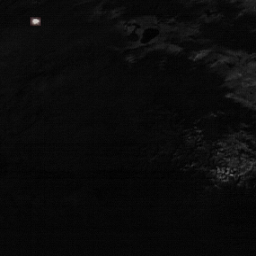Target: (30, 17, 40, 25)
